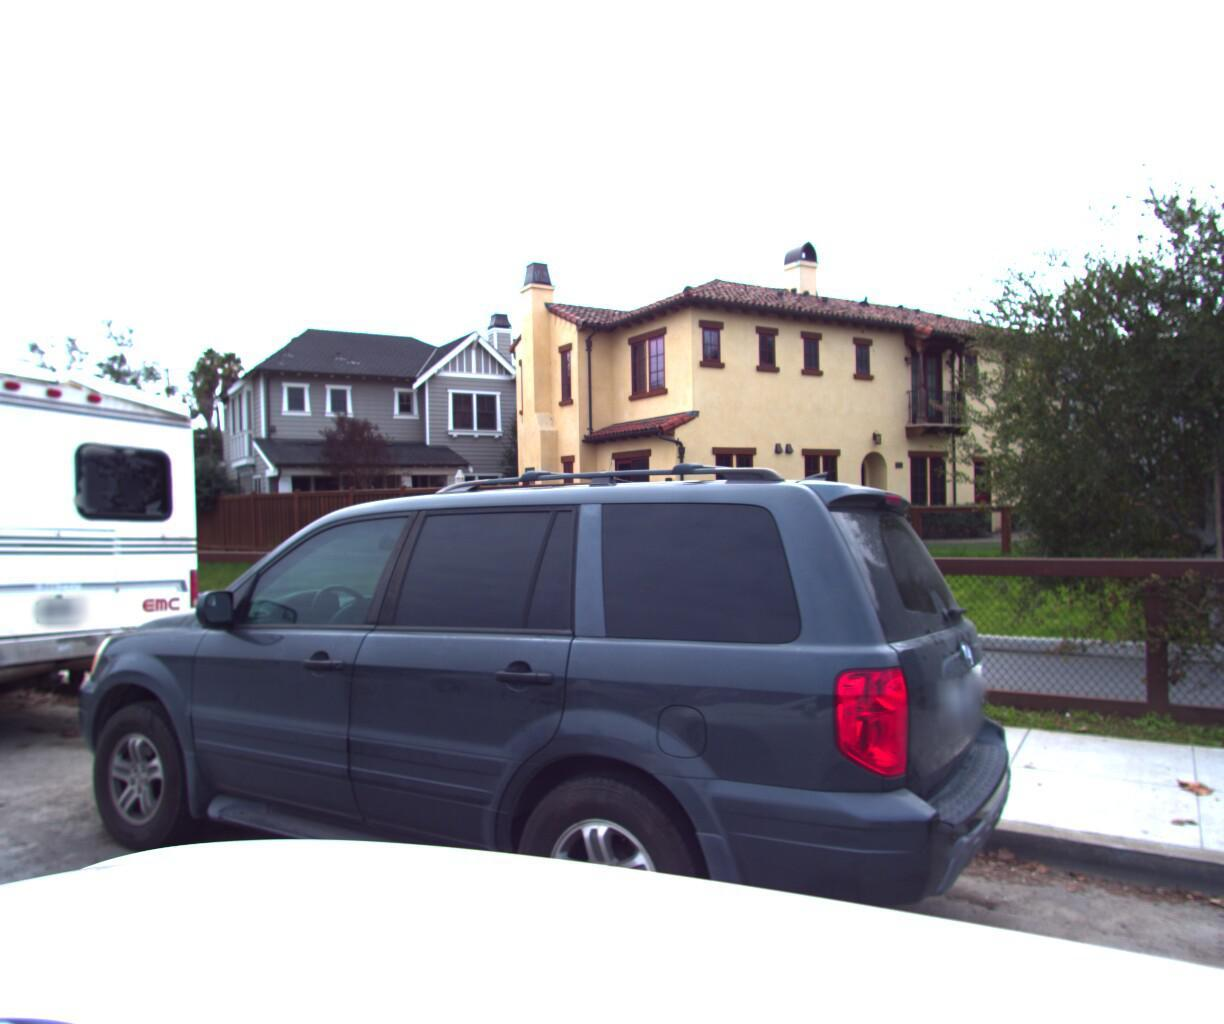car: (0, 431, 1026, 1024)
other_vehicle: (0, 242, 230, 799)
